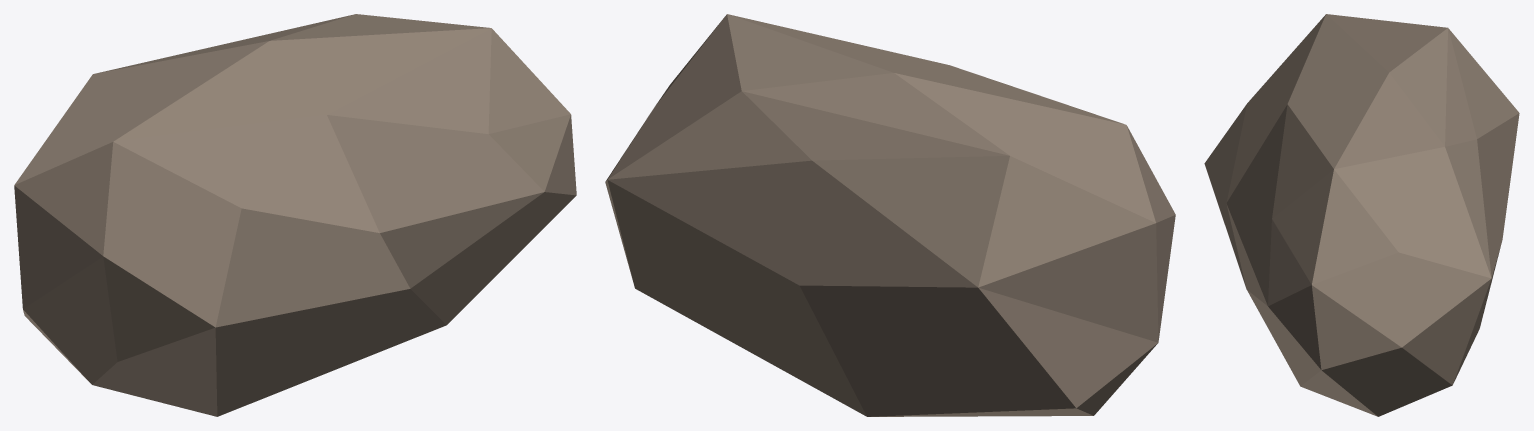
Rendered from StoneLarge_Mesh.fbx.
The picture shows the model from 3 angles, left to right: view 1: azimuth 30°, elevation 25°; view 2: azimuth 150°, elevation 25°; view 3: azimuth 270°, elevation 25°; orthographic projection. The views are drawn at different scales.
Parts seen in each view (by area): view 1: StoneLarge_Mesh; view 2: StoneLarge_Mesh; view 3: StoneLarge_Mesh.
Part boxes in pixels (x1,y1,x2,y2): StoneLarge_Mesh: (14, 14, 576, 416); StoneLarge_Mesh: (605, 14, 1175, 416); StoneLarge_Mesh: (1204, 14, 1519, 416).
Size of the model in its own units: 756 by 447 by 427.
